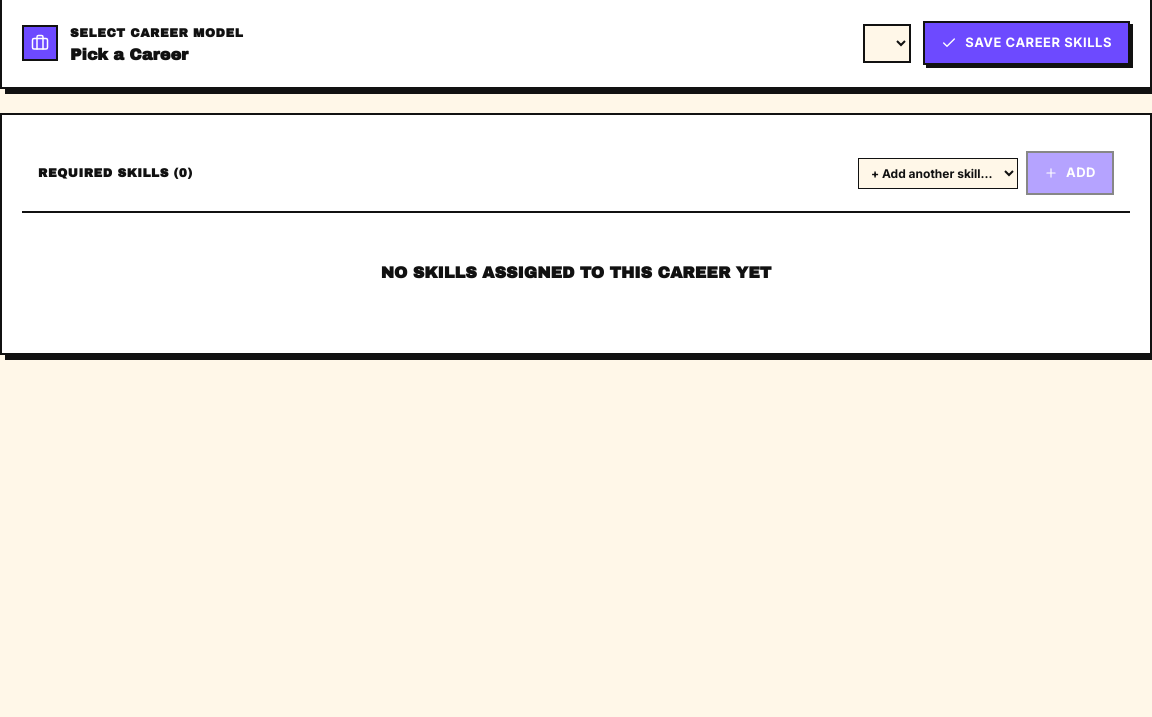
it: Admin Frontend Pages (Skills, Relationships, Careers) › Careers Page › renders career skills and provides "ADD MISSING PREREQUISITES" button on closure 422
Click the button "SAVE CAREER SKILLS" at point(1027, 43), box [923,21,1130,65]
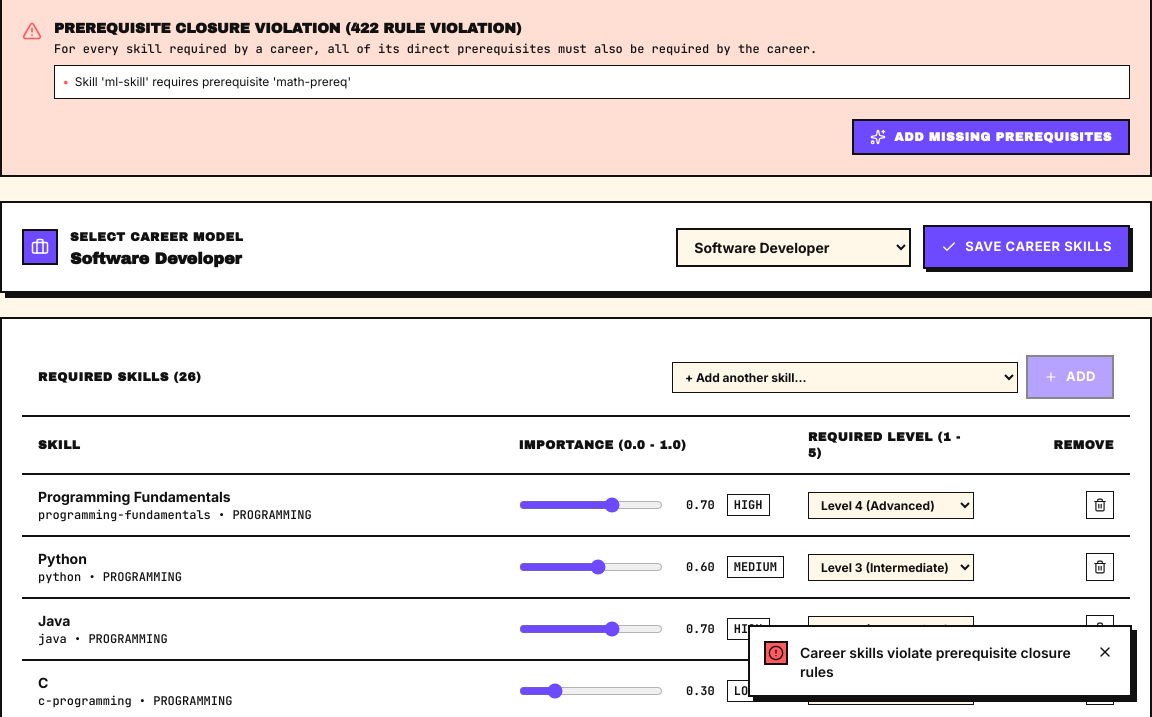
Now the heading "PREREQUISITE CLOSURE VIOLATION (422 RULE VIOLATION)" is shown, box [54,21,521,36]
Now the button "ADD MISSING PREREQUISITES" is shown
# Click "ADD MISSING PREREQUISITES"
Click the button "ADD MISSING PREREQUISITES" at point(991, 137), box [852,119,1130,155]
(page scrolled)
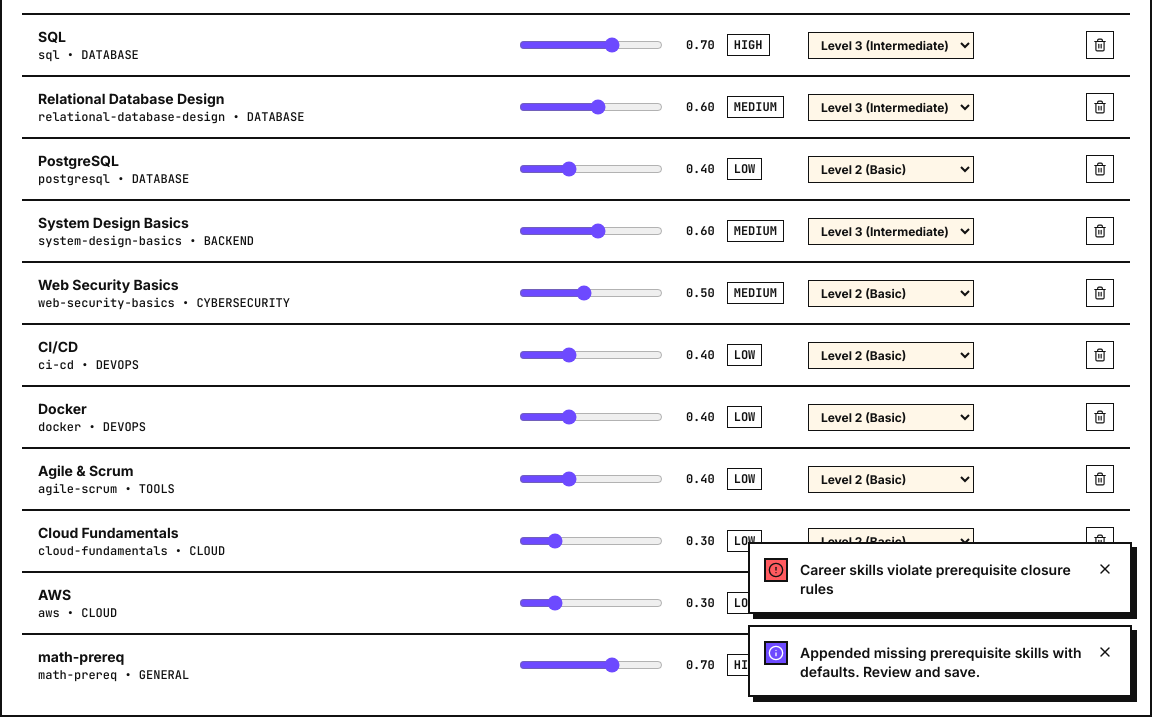
Now the heading "PREREQUISITE CLOSURE VIOLATION" is gone
Now the text "math-prereq" is shown, box [38,648,124,665]
